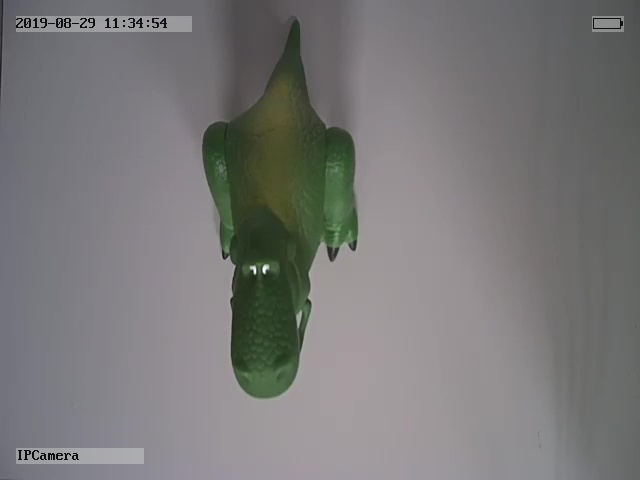rex: (200, 18, 361, 400)
